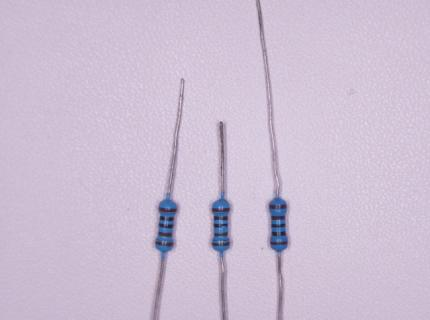Black band: (158, 222, 174, 229), (159, 215, 174, 221), (214, 223, 228, 228), (214, 216, 228, 221), (272, 232, 286, 237), (272, 224, 286, 228)
Brown band: (155, 241, 174, 247), (269, 204, 287, 210), (159, 207, 177, 212), (158, 232, 173, 237), (212, 208, 230, 212), (212, 242, 230, 246), (270, 241, 288, 245), (214, 232, 228, 237), (271, 216, 285, 221)
